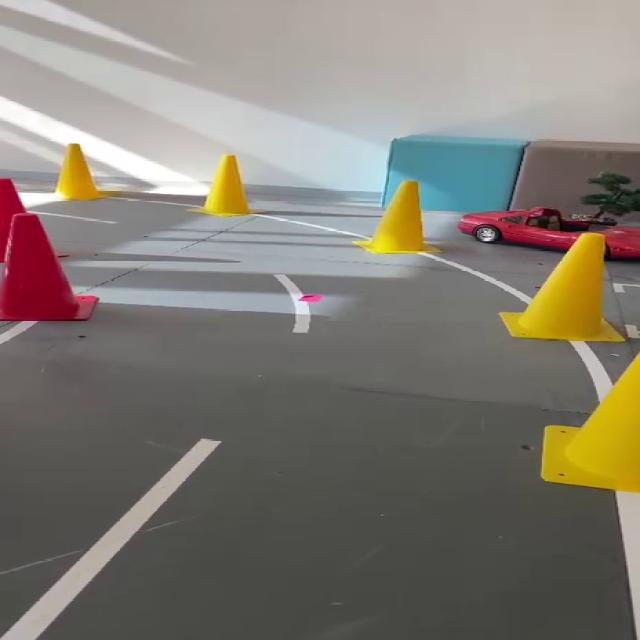Cone-red: (0, 213, 97, 321), (0, 178, 25, 262)
Cones-yellow: (541, 355, 639, 493), (542, 354, 639, 492), (501, 233, 623, 342), (356, 181, 434, 253), (194, 155, 250, 216), (55, 143, 103, 199)
